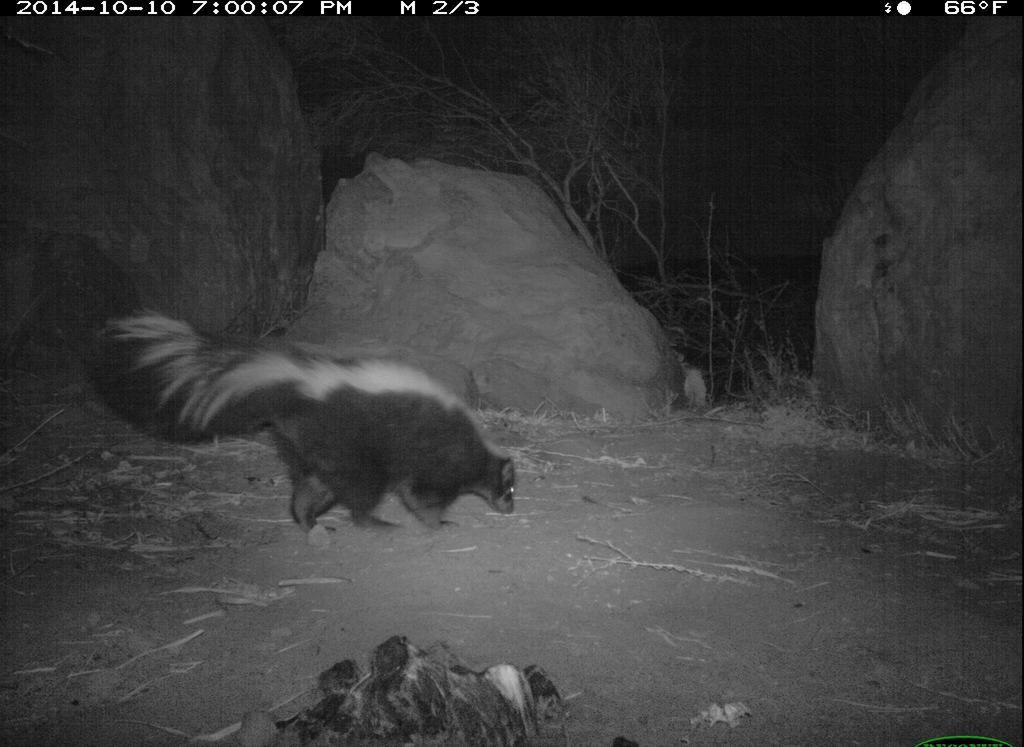skunk: (91, 297, 527, 551)
